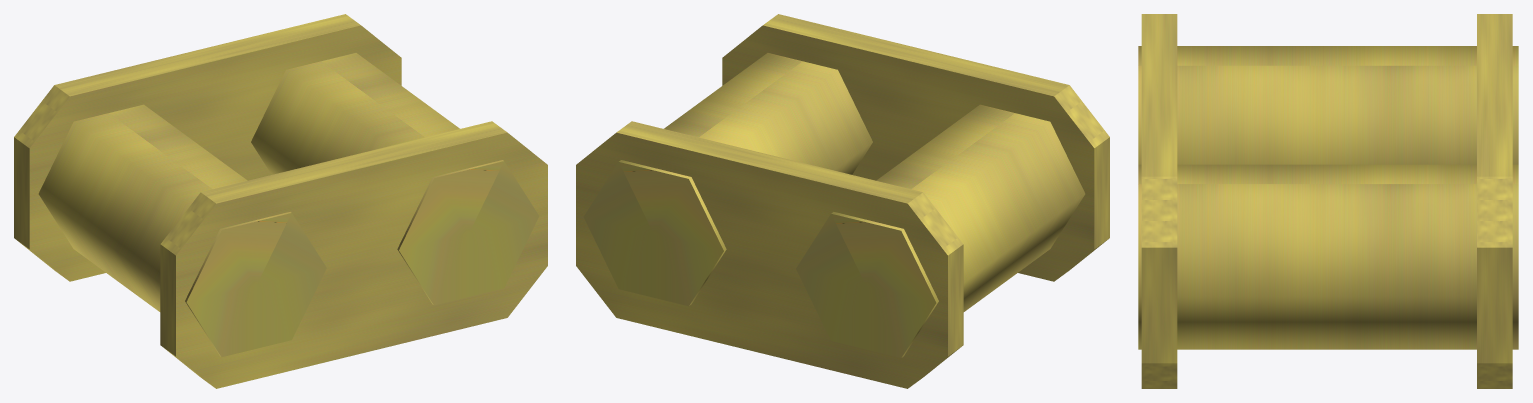
Rendered from ChainLink001.fbx.
The picture shows the model from 3 angles, left to right: view 1: azimuth 30°, elevation 25°; view 2: azimuth 150°, elevation 25°; view 3: azimuth 270°, elevation 25°; orthographic projection. The views are drawn at different scales.
Parts seen in each view (by area): view 1: ChainBinding001, ChainLinkBar001, ChainLinkBar002, ChainBinding002; view 2: ChainBinding002, ChainLinkBar001, ChainLinkBar002, ChainBinding001; view 3: ChainLinkBar002, ChainLinkBar001, ChainBinding001, ChainBinding002.
Boxes of the visible parts, x1,y1,x2,y2 form: ChainBinding001: (160,121,547,388); ChainLinkBar001: (38,104,326,357); ChainLinkBar002: (251,53,539,305); ChainBinding002: (14,14,401,281); ChainBinding002: (576,121,963,388); ChainLinkBar001: (796,104,1085,357); ChainLinkBar002: (583,53,872,306); ChainBinding001: (722,14,1109,281); ChainLinkBar002: (1138,164,1518,349); ChainLinkBar001: (1138,46,1518,164); ChainBinding001: (1141,14,1177,388); ChainBinding002: (1477,14,1512,388).
Size of the model in its own units: 33.54 by 15.97 by 25.96.
